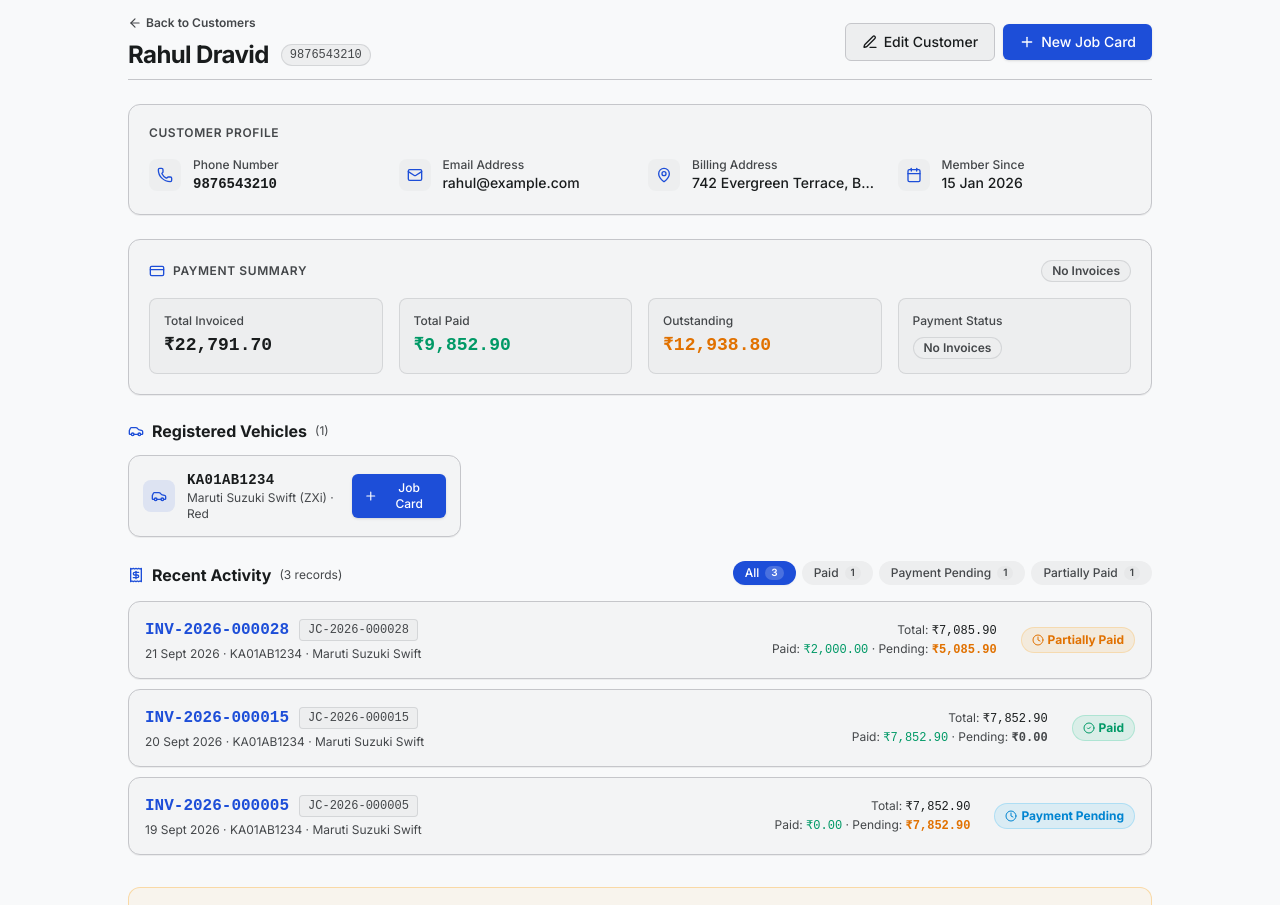
CustomerDetailPage Component › 6. Switching filter pills updates displayed invoice activity records
Expected: the button "INV-2026-000028" is shown, [145,618,289,642]
# Click "Paid" filter
Click the button "Paid 1" at (837, 573), box [802,561,873,585]
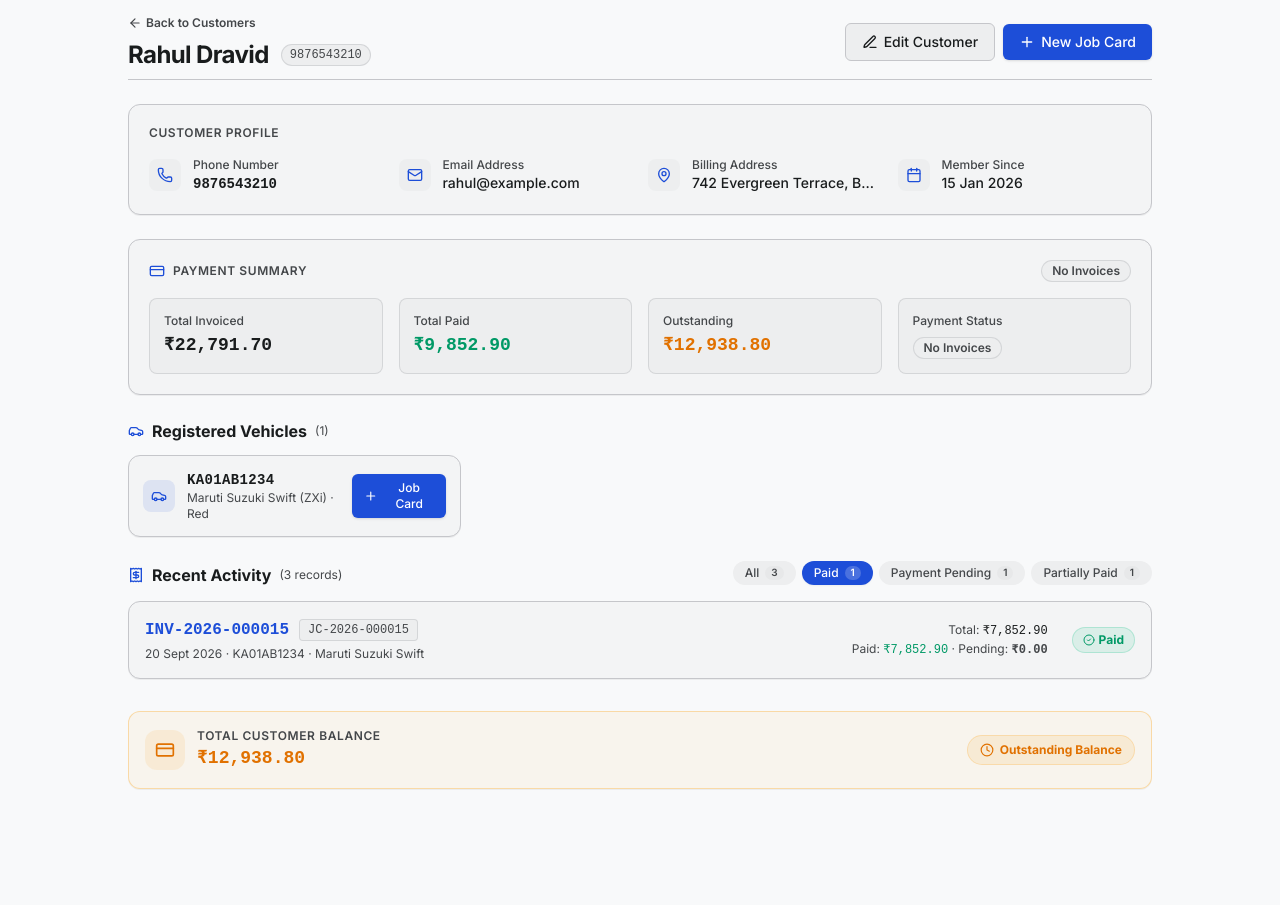
Expected: the button "INV-2026-000015" is shown, [145,618,289,642]
Expected: the button "INV-2026-000028" is gone
Expected: the button "INV-2026-000005" is gone
# Click "Payment Pending" filter
Click the button "Payment Pending 1" at (952, 573), box [879,561,1025,585]
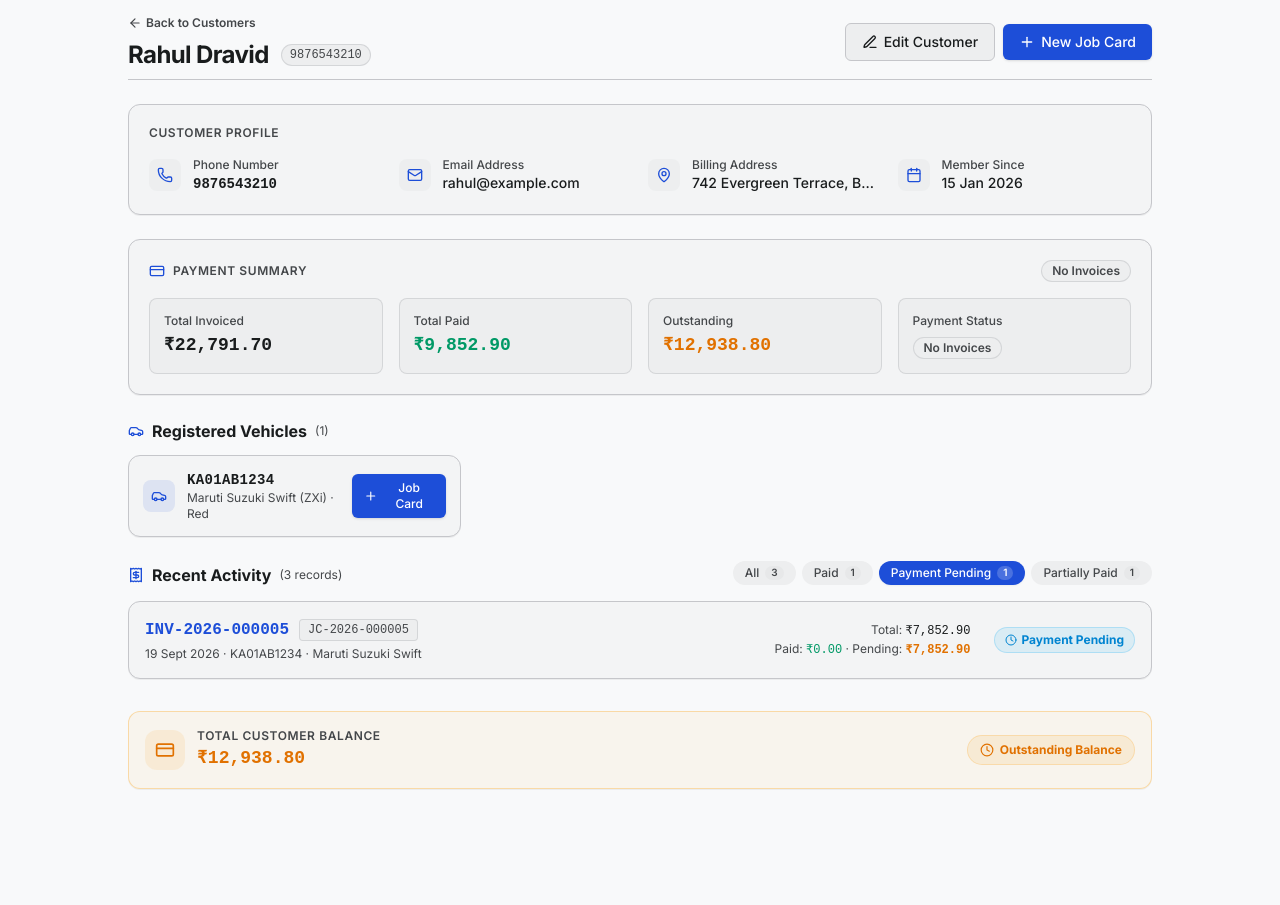
Expected: the button "INV-2026-000028" is not shown
Expected: the button "INV-2026-000005" is shown, [145,618,289,642]
Expected: the button "INV-2026-000015" is gone
# Click "Partially Paid" filter
Click the button "Partially Paid 1" at (1092, 573), box [1031,561,1152,585]
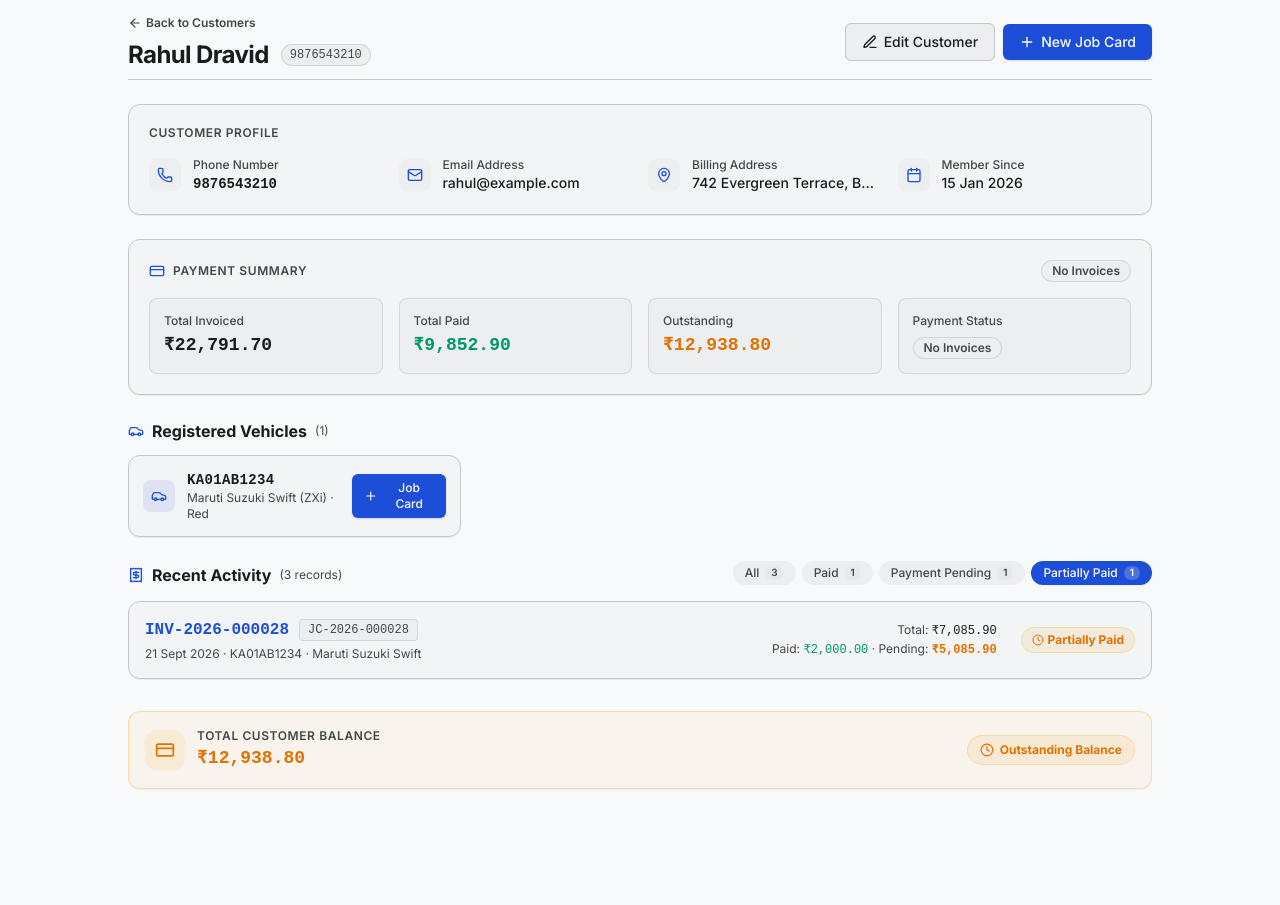
Expected: the button "INV-2026-000015" is not shown
Expected: the button "INV-2026-000028" is shown, [145,618,289,642]
Expected: the button "INV-2026-000005" is gone
